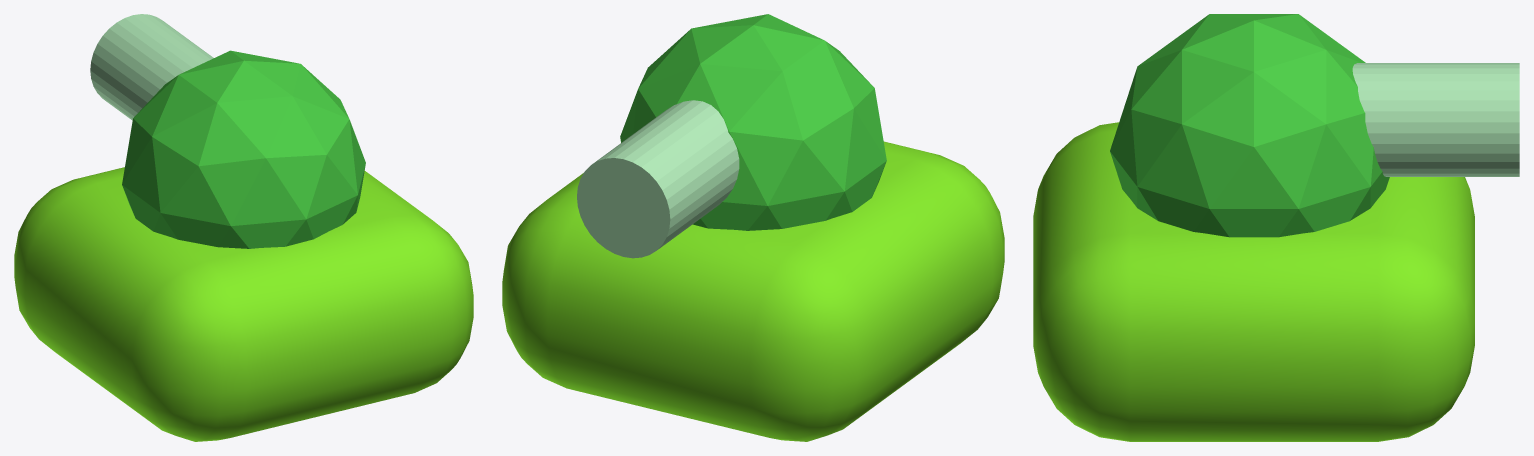
File: enermy1.fbx
The picture shows the model from 3 angles, left to right: view 1: azimuth 30°, elevation 25°; view 2: azimuth 150°, elevation 25°; view 3: azimuth 270°, elevation 25°; orthographic projection. The views are drawn at different scales.
Visible parts, largest first — view 1: 敌人坦克1, 棱角球.001, 柱体.001; view 2: 敌人坦克1, 棱角球.001, 柱体.001; view 3: 敌人坦克1, 棱角球.001, 柱体.001.
Part boxes in pixels (<box>): 敌人坦克1: <box>14,167,473,441</box>; 棱角球.001: <box>122,50,365,248</box>; 柱体.001: <box>90,14,213,120</box>; 敌人坦克1: <box>502,141,1004,441</box>; 棱角球.001: <box>620,14,886,230</box>; 柱体.001: <box>577,100,739,258</box>; 敌人坦克1: <box>1033,122,1474,441</box>; 棱角球.001: <box>1110,14,1389,237</box>; 柱体.001: <box>1352,63,1519,176</box>.
Bounding box in the file's own units: 1 × 0.9015 × 1.1.
